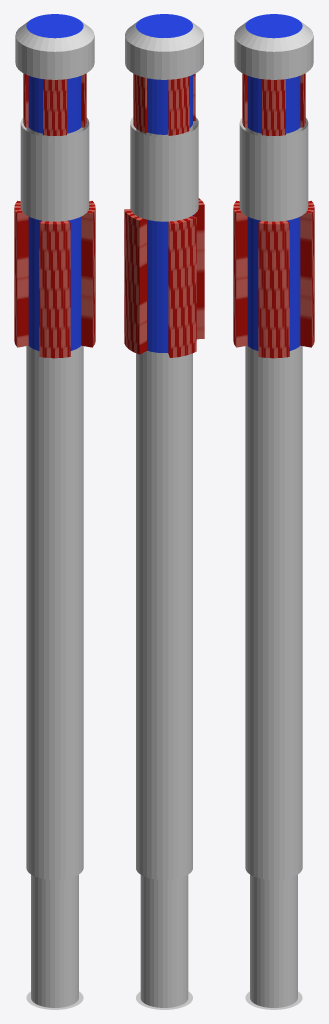
The model's file is Оружие.fbx.
The picture shows the model from 3 angles, left to right: view 1: azimuth 90°, elevation 25°; view 2: azimuth 210°, elevation 25°; view 3: azimuth 270°, elevation 25°; orthographic projection.
Parts seen in each view (by area): view 1: Cylinder; view 2: Cylinder; view 3: Cylinder.
Boxes of the visible parts, left/top/right/bottom form: Cylinder: left=14, top=14, right=95, bottom=1009; Cylinder: left=124, top=14, right=204, bottom=1009; Cylinder: left=233, top=14, right=314, bottom=1009.
Size of the model in its own units: 37.4 by 37.4 by 493.
